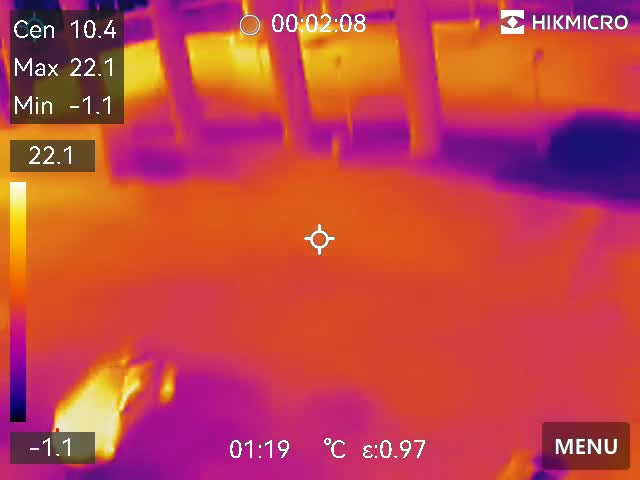vehicle: (39, 339, 180, 473)
